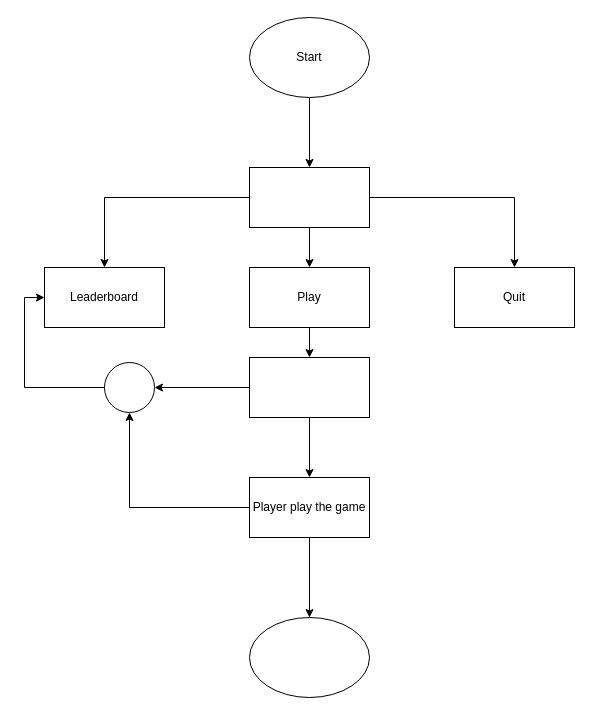
The diagram is 592 pixels wide and 715 high, and some of its shapes have lost their labels. Here are the shapes that lost their labels. From the top down, the box of each, then its label:
(248, 166, 370, 228): Home Page
(248, 356, 370, 418): Type Name
(248, 616, 370, 698): End
